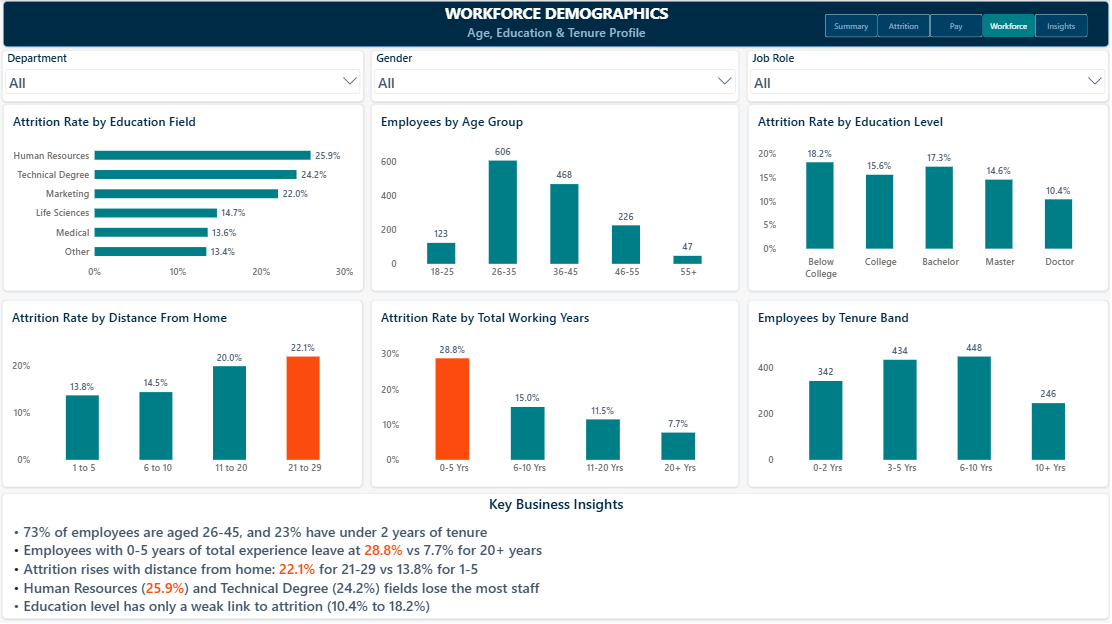

This screenshot's page, from the dashboard's own definition file:
{"tool":"powerbi","page":{"name":"Workforce","canvas":[1920,1080],"ordinal":3},"visuals":[{"type":"textbox","title":"WORKFORCE DEMOGRAPHICS","box":[10.1,4,1895.7,78.8],"z":0},{"type":"slicer","fields":{"Values":["HR_Data.Department"]},"box":[8.1,86.9,620.5,88.9],"z":1000},{"type":"slicer","fields":{"Values":["HR_Data.Gender"]},"box":[640.7,86.9,630.6,88.9],"z":2000},{"type":"slicer","fields":{"Values":["HR_Data.JobRole"]},"box":[1285.4,86.9,620.5,88.9],"z":3000},{"type":"clusteredBarChart","title":"Attrition Rate by Education Field","fields":{"Category":["HR_Data.EducationField"],"Y":["_Measures.Attrition Rate"]},"box":[10.1,179.9,618.4,321],"z":4000},{"type":"clusteredColumnChart","title":"Employees by Age Group","fields":{"Category":["HR_Data.Age Group"],"Y":["_Measures.Total Employees"]},"box":[640.7,179.9,630.6,321],"z":5000},{"type":"clusteredColumnChart","fields":{"Category":["HR_Data.Education Level"],"Y":["_Measures.Attrition Rate"]},"box":[1287.4,179.9,618,321],"z":6000},{"type":"clusteredColumnChart","title":"\tAttrition Rate by Distance From Home","fields":{"Category":["HR_Data.Distance Band"],"Y":["_Measures.Attrition Rate"]},"box":[8.1,515.4,618.4,321],"z":7000},{"type":"clusteredColumnChart","title":"Attrition Rate by Total Working Years","fields":{"Category":["HR_Data.Experience Band"],"Y":["_Measures.Attrition Rate"]},"box":[640.7,515.4,631,321],"z":8000},{"type":"clusteredColumnChart","title":"Employees by Tenure Band","fields":{"Category":["HR_Data.Tenure Band"],"Y":["_Measures.Total Employees"]},"box":[1287.4,515.4,618,321],"z":9000},{"type":"textbox","title":"Key Business Insights","box":[8.1,846.8,1897.8,216.3],"z":10000},{"type":"pageNavigator","box":[1418.8,26.3,452.7,40.4],"z":11000}]}

Visuals, with their boxes in screenshot pixels (x1, y1, x2, y2), scaled from the page's 1920x1080 canvas onto the 1112x624 screenshot:
"WORKFORCE DEMOGRAPHICS" textbox: bbox(6, 2, 1104, 48)
slicer - HR_Data.Department: bbox(5, 50, 364, 102)
slicer - HR_Data.Gender: bbox(371, 50, 736, 102)
slicer - HR_Data.JobRole: bbox(744, 50, 1104, 102)
"Attrition Rate by Education Field" clusteredBarChart: bbox(6, 104, 364, 289)
"Employees by Age Group" clusteredColumnChart: bbox(371, 104, 736, 289)
clusteredColumnChart - HR_Data.Education Level x _Measures.Attrition Rate: bbox(746, 104, 1104, 289)
"	Attrition Rate by Distance From Home" clusteredColumnChart: bbox(5, 298, 363, 483)
"Attrition Rate by Total Working Years" clusteredColumnChart: bbox(371, 298, 737, 483)
"Employees by Tenure Band" clusteredColumnChart: bbox(746, 298, 1104, 483)
"Key Business Insights" textbox: bbox(5, 489, 1104, 614)
pageNavigator: bbox(822, 15, 1084, 39)
